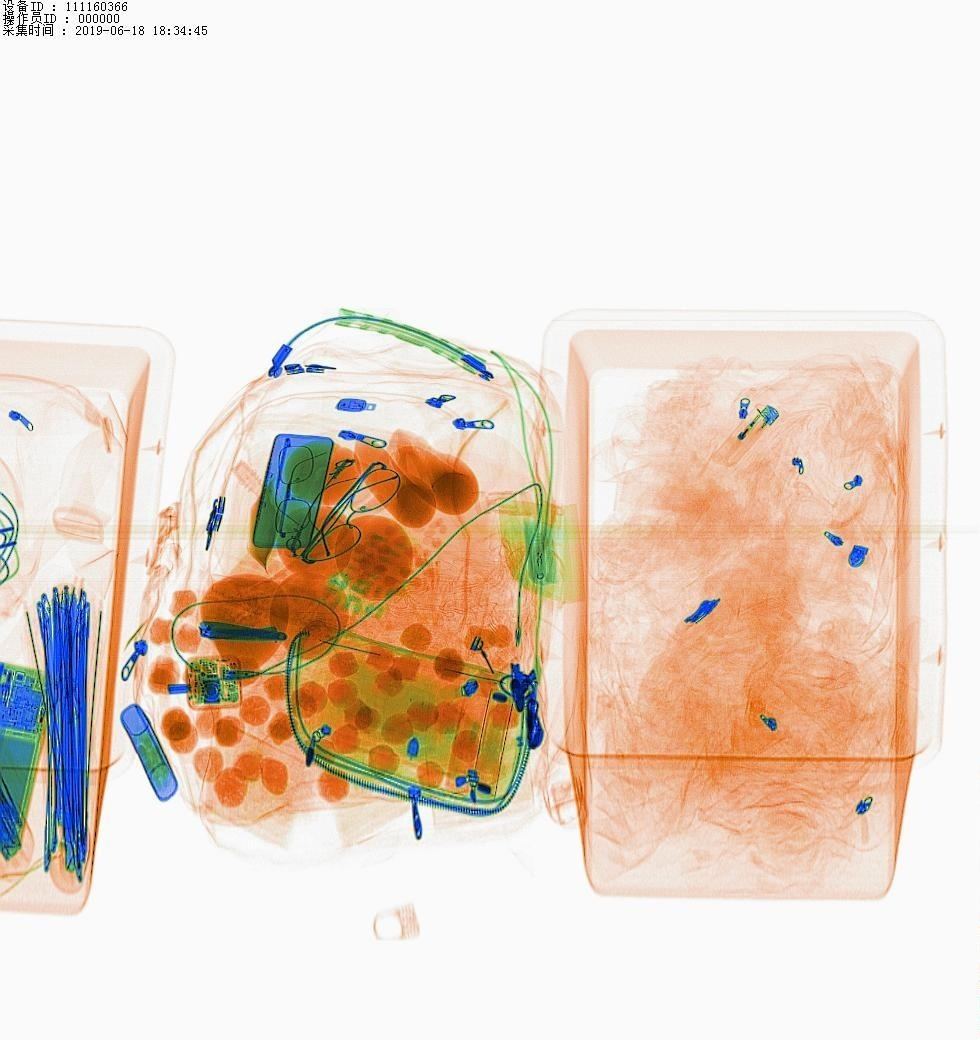NonmetallicFire: (708, 390, 789, 481)
